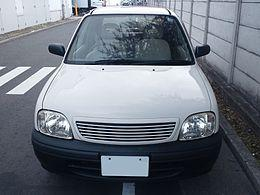car: (46, 6, 220, 169)
